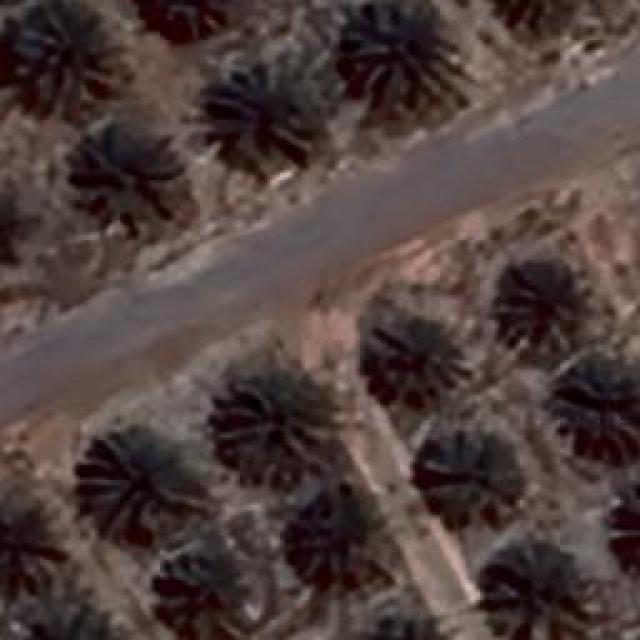PalmTree: (90, 29, 622, 530), (36, 102, 409, 625), (212, 370, 338, 482), (80, 430, 200, 530), (7, 0, 125, 100), (210, 60, 315, 170), (481, 555, 614, 640), (342, 2, 456, 90), (296, 498, 396, 590), (78, 138, 182, 224), (494, 250, 588, 345), (419, 435, 519, 523), (160, 546, 248, 634), (557, 367, 640, 460), (366, 315, 459, 395), (132, 0, 248, 47), (0, 501, 42, 596), (16, 605, 125, 640), (0, 182, 35, 282), (490, 0, 580, 37)
